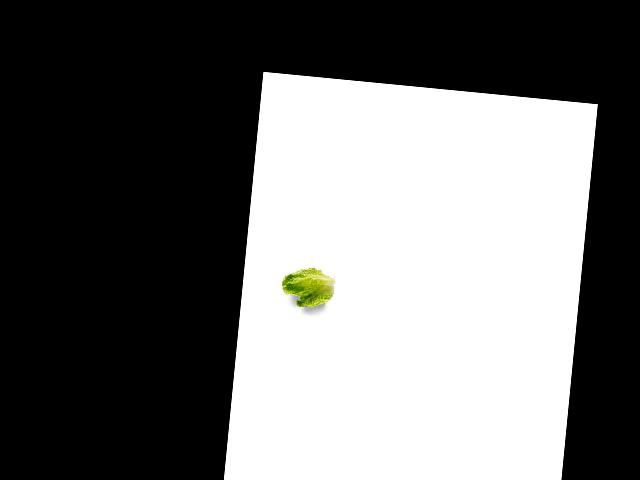lettuce: (276, 263, 341, 311)
